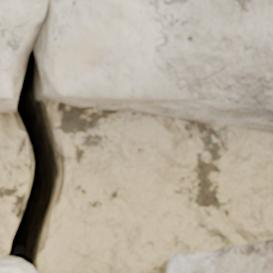brick: (166, 239, 272, 272), (0, 259, 36, 272)
broken_brick: (0, 0, 272, 133), (0, 102, 15, 113)
crack: (0, 2, 71, 270)
